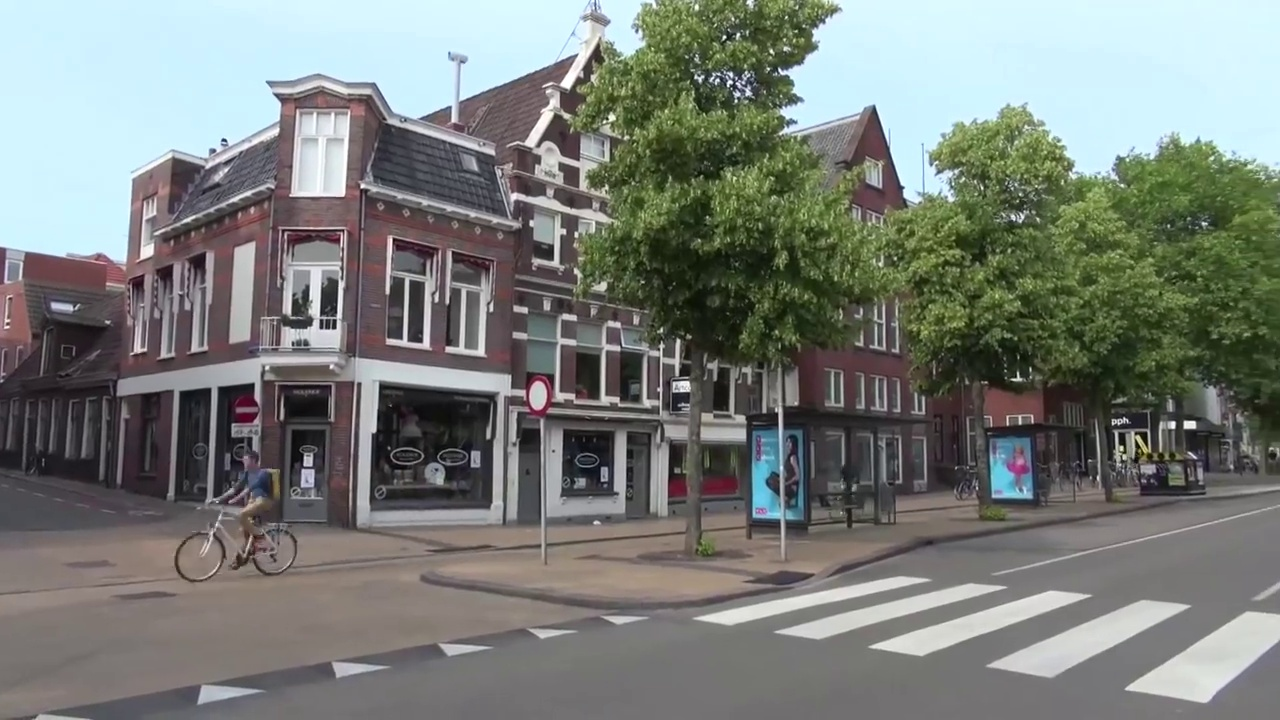cyclist_side: (175, 445, 313, 581)
